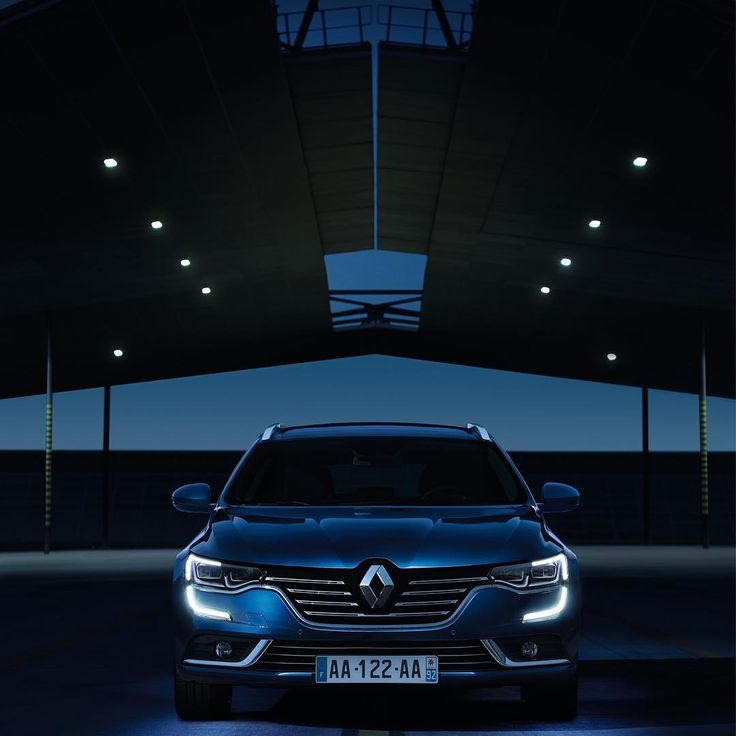plate: (312, 652, 442, 687)
